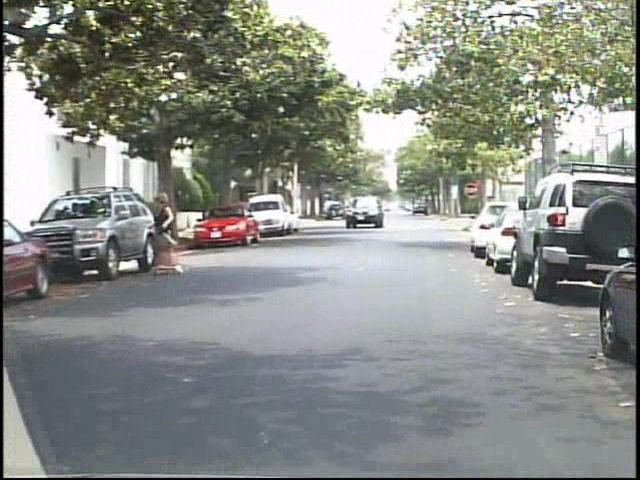person: (157, 188, 192, 278)
